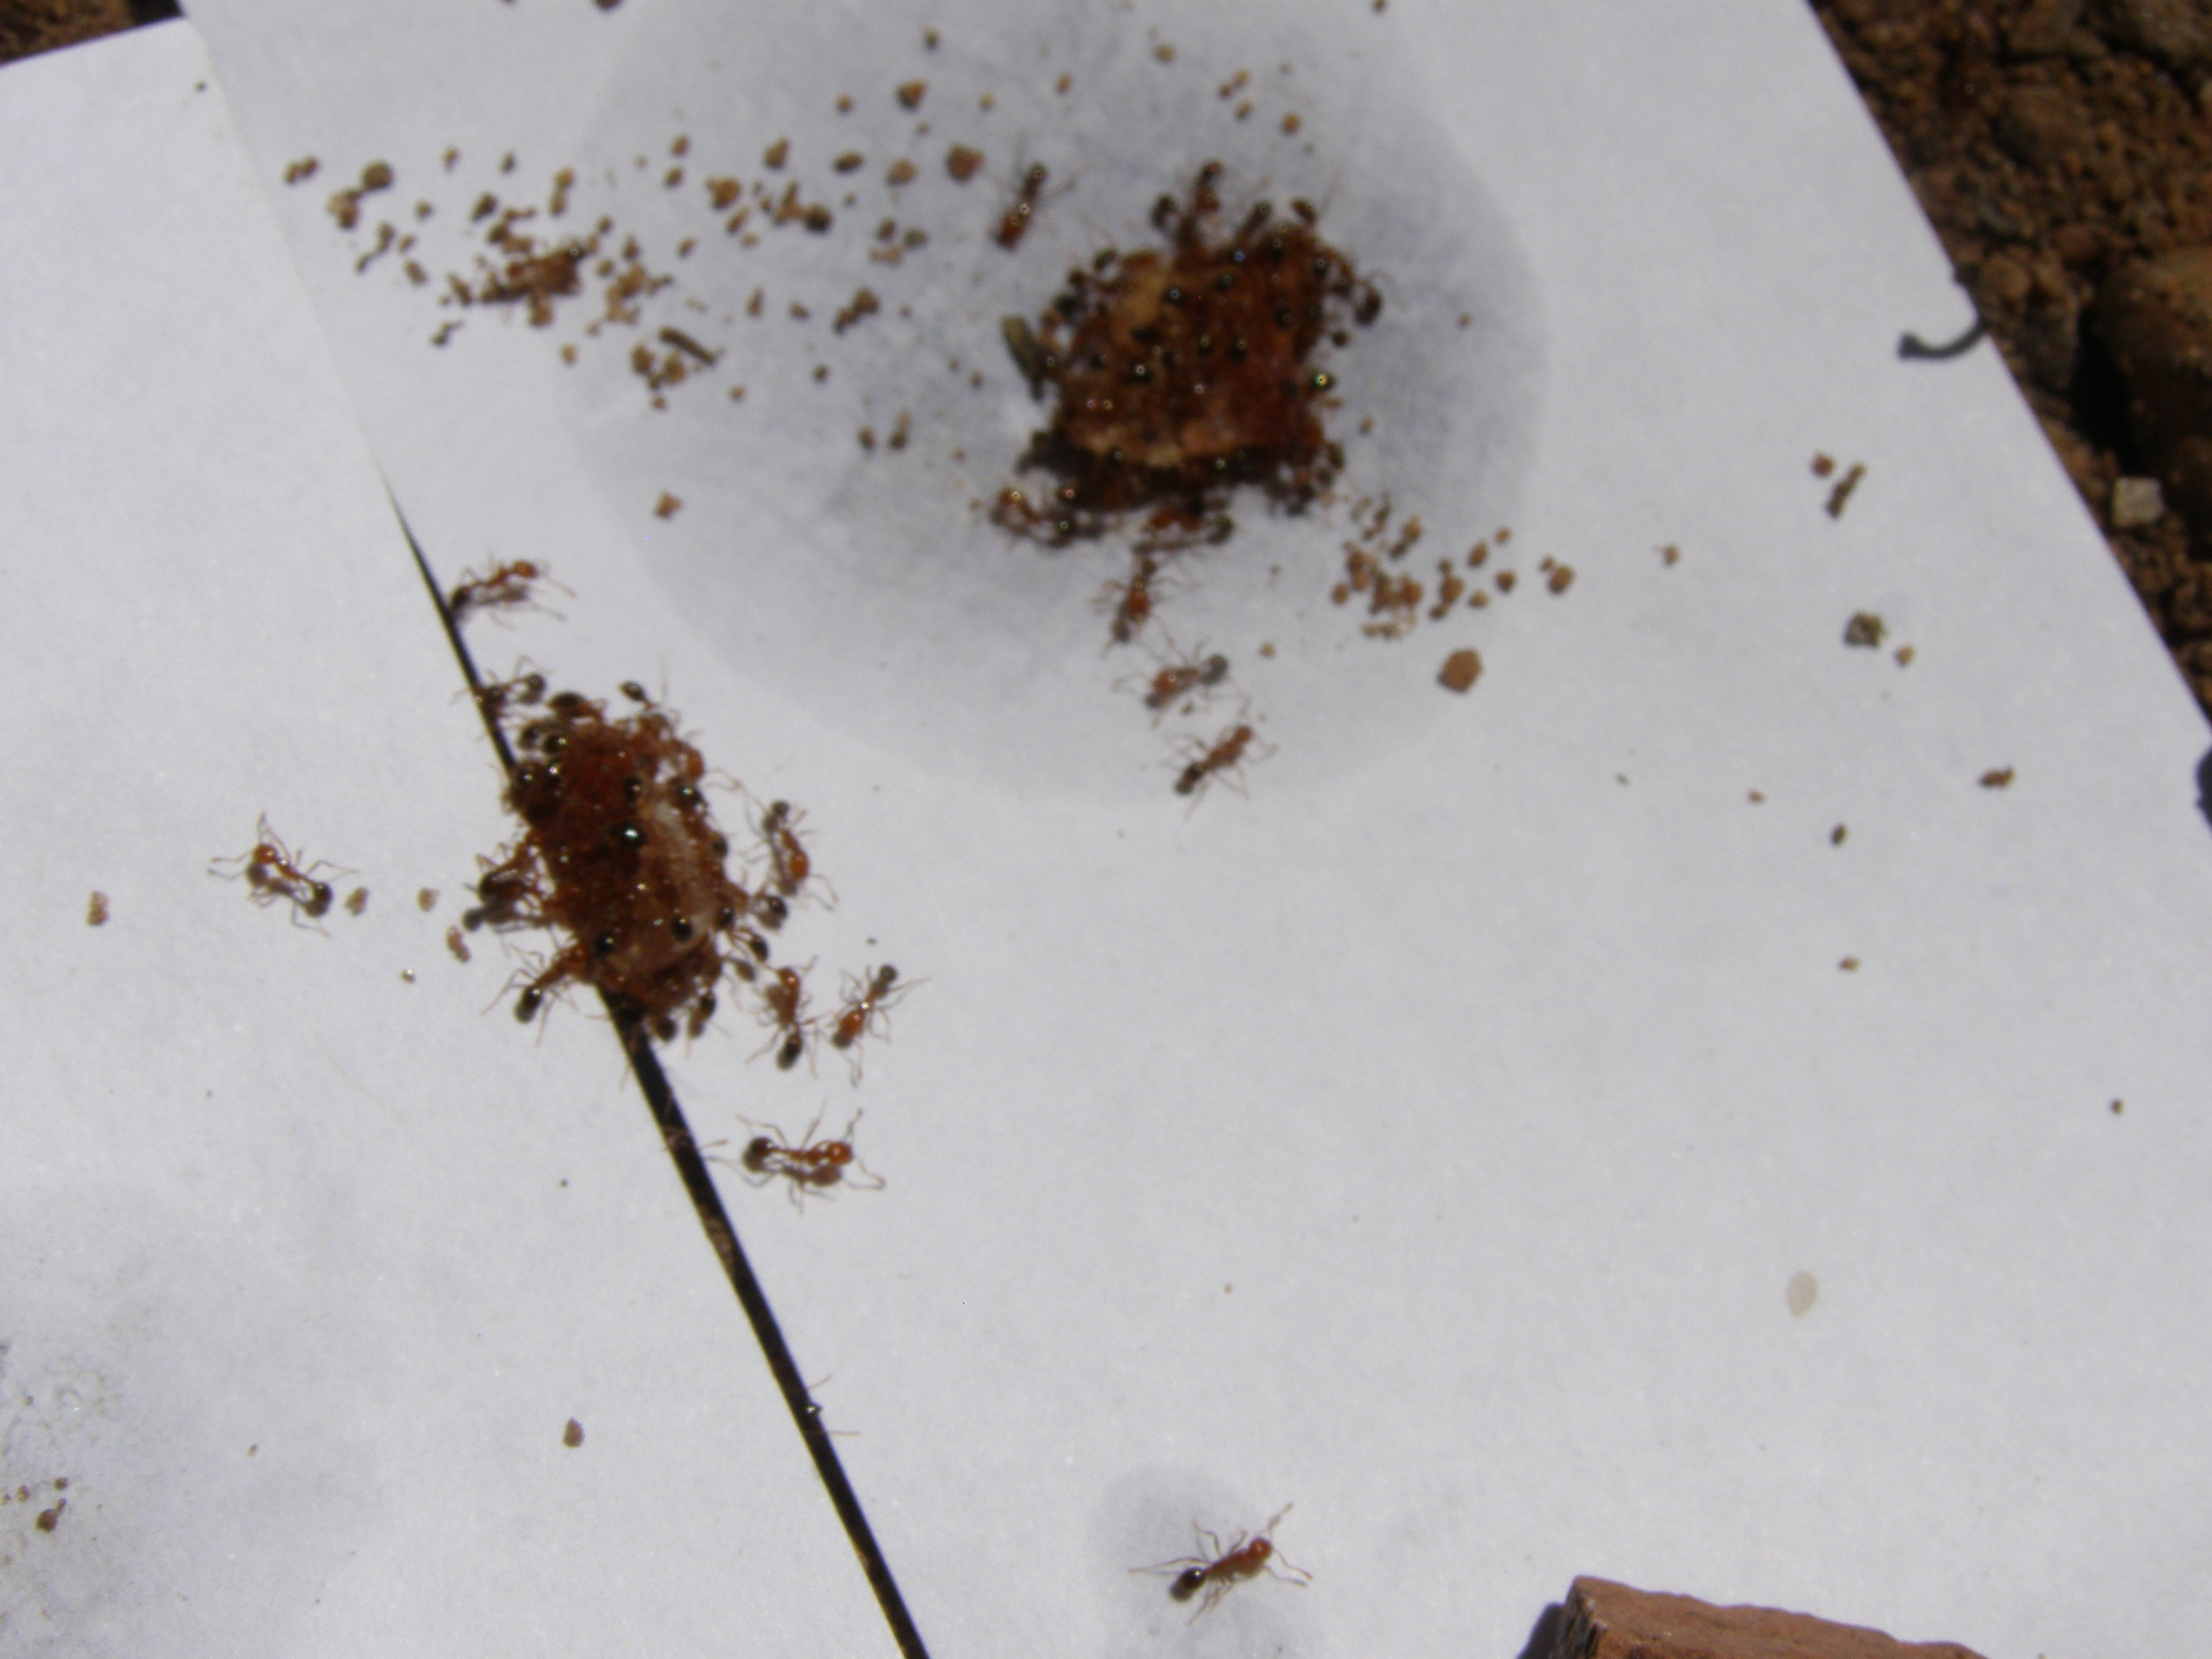Solenopsis_geminata: (1113, 1480, 1331, 1657), (1113, 1481, 1331, 1656), (193, 788, 381, 976), (716, 1080, 900, 1241), (812, 934, 941, 1100), (735, 943, 827, 1091)
